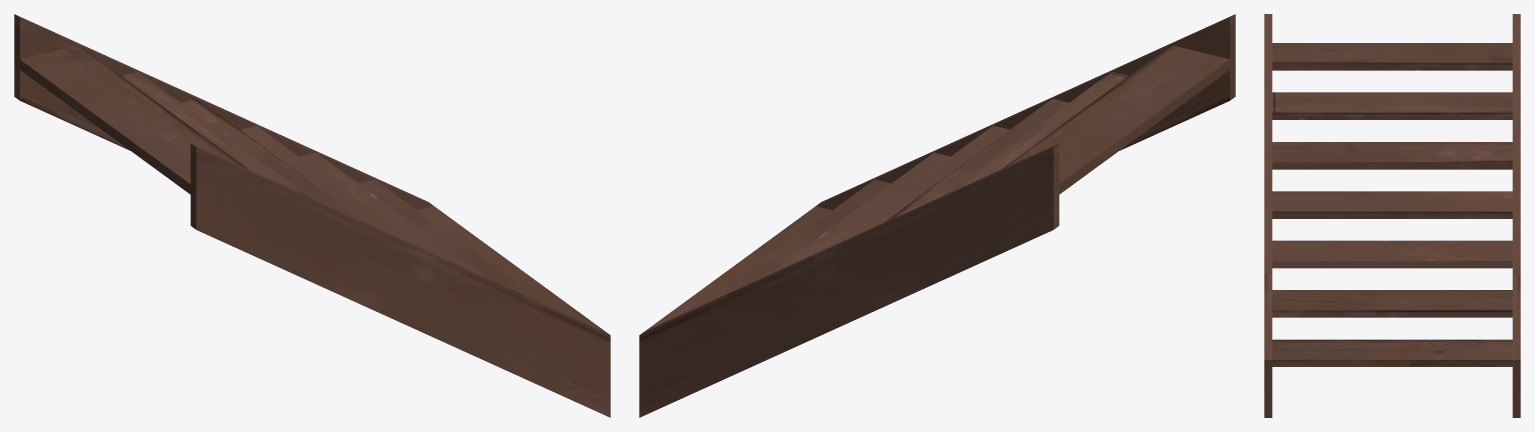
The picture shows the model from 3 angles, left to right: view 1: azimuth 30°, elevation 25°; view 2: azimuth 150°, elevation 25°; view 3: azimuth 270°, elevation 25°; orthographic projection. The views are drawn at different scales.
Parts seen in each view (by area): view 1: body0_model0_lod0_mesh0; view 2: body0_model0_lod0_mesh0; view 3: body0_model0_lod0_mesh0.
Boxes of the visible parts, bbox=[...] form: body0_model0_lod0_mesh0: bbox=[14, 14, 610, 417]; body0_model0_lod0_mesh0: bbox=[639, 14, 1235, 417]; body0_model0_lod0_mesh0: bbox=[1264, 14, 1520, 417].
Bounding box in the file's own units: 84 × 72 × 64.
Materials: 1 (1 with a texture image).
